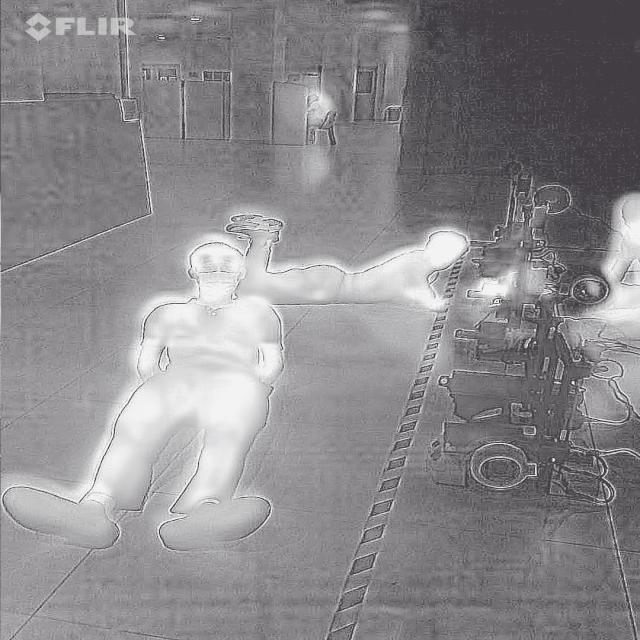Victim: (0, 235, 290, 558), (211, 203, 474, 316), (552, 185, 639, 324)
